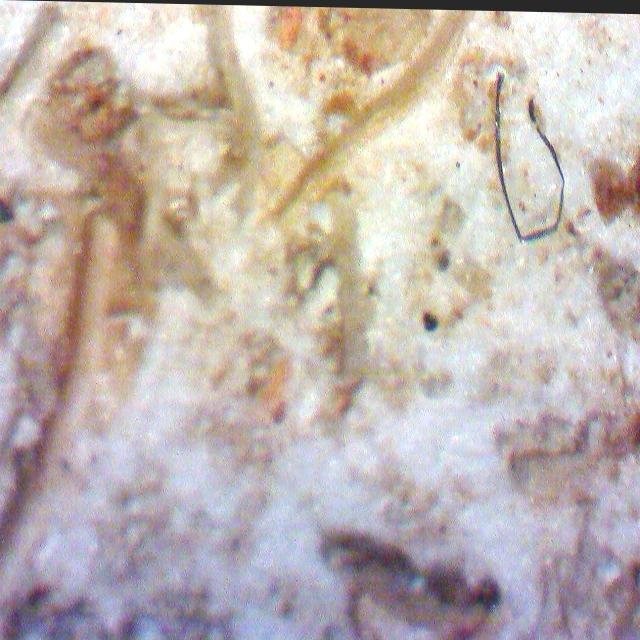microplastic: (496, 73, 563, 242)
